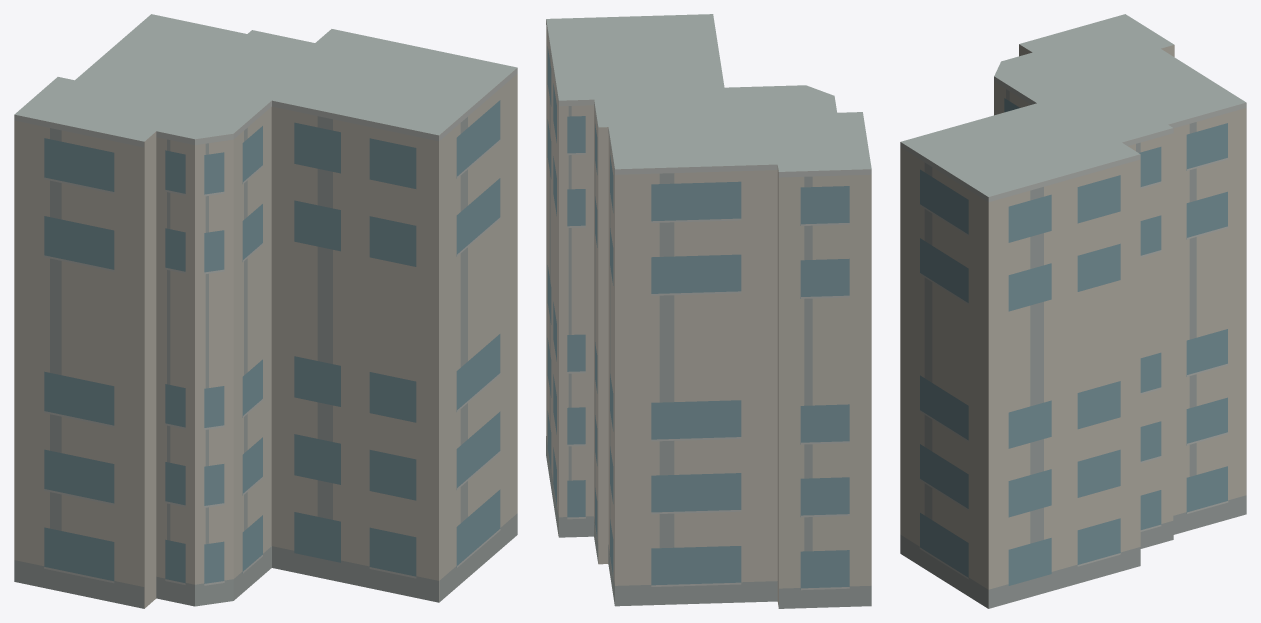
File: survey-upis-32614965.glb
The picture shows the model from 3 angles, left to right: view 1: azimuth 30°, elevation 25°; view 2: azimuth 150°, elevation 25°; view 3: azimuth 270°, elevation 25°; orthographic projection. The views are drawn at different scales.
Visible parts, largest first — view 1: survey-upis-32614965.tmp; view 2: survey-upis-32614965.tmp; view 3: survey-upis-32614965.tmp.
Part boxes in pixels (box(x1,y1,x2,y2)): survey-upis-32614965.tmp: box(14, 14, 517, 608); survey-upis-32614965.tmp: box(546, 14, 871, 608); survey-upis-32614965.tmp: box(900, 14, 1246, 608).
Bounding box in the file's own units: 18.22 × 19.1 × 14.56.
